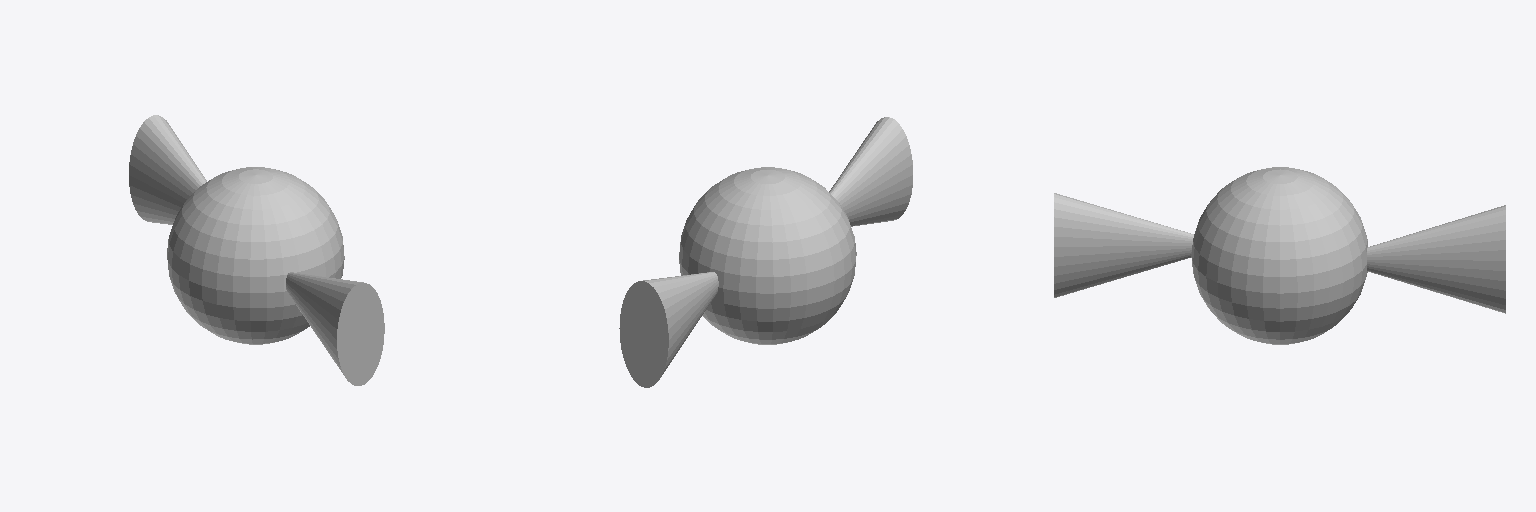
Rendered from candy.obj.
3 renders of one model, left to right at view 1: azimuth 30°, elevation 25°; view 2: azimuth 150°, elevation 25°; view 3: azimuth 270°, elevation 25°, orthographic.
Parts seen in each view (by area): view 1: Sphere, Cone.001, Cone; view 2: Sphere, Cone, Cone.001; view 3: Sphere, Cone, Cone.001.
Part boxes in pixels (left/top/right/bottom): Sphere: left=167, top=167, right=344, bottom=344; Cone.001: left=286, top=272, right=384, bottom=385; Cone: left=129, top=115, right=206, bottom=224; Sphere: left=679, top=167, right=856, bottom=344; Cone: left=619, top=272, right=718, bottom=387; Cone.001: left=829, top=117, right=912, bottom=226; Sphere: left=1191, top=167, right=1367, bottom=344; Cone: left=1367, top=205, right=1505, bottom=313; Cone.001: left=1054, top=193, right=1193, bottom=297.
Size of the model in its own units: 2 by 2 by 5.08.